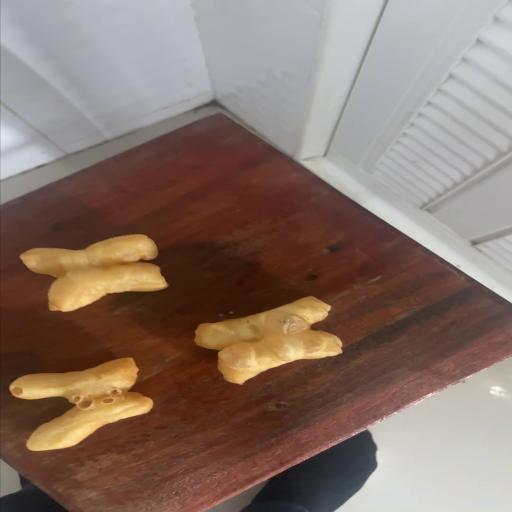street_golden_defect: (9, 358, 153, 451), (195, 297, 342, 384)
street_golden_good: (20, 235, 168, 312)
